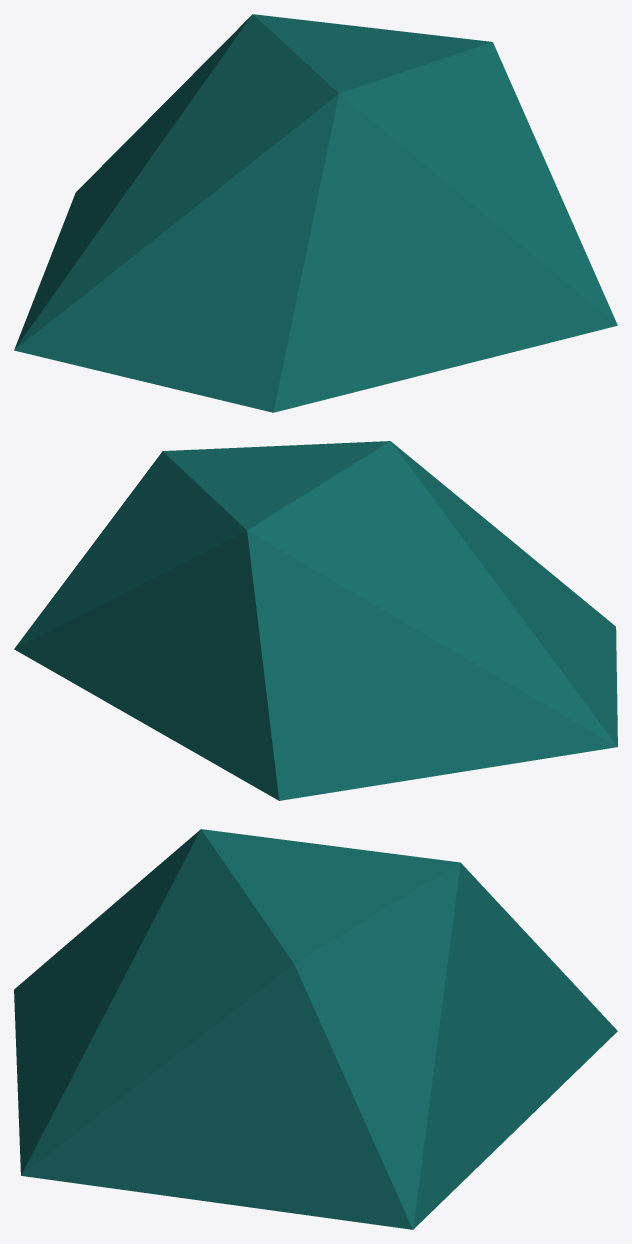
Rendered from Rock A.fbx.
3 views of the same model, one above another, from view 1: azimuth 30°, elevation 25°; view 2: azimuth 150°, elevation 25°; view 3: azimuth 270°, elevation 25° (orthographic). The views are drawn at different scales.
Visible parts, largest first — view 1: Plane001; view 2: Plane001; view 3: Plane001.
Boxes of the visible parts, x1=… form: Plane001: x1=14, y1=14, x2=617, y2=412; Plane001: x1=14, y1=441, x2=617, y2=800; Plane001: x1=14, y1=829, x2=617, y2=1229.
Size of the model in its own units: 10.15 by 3.68 by 8.35.
Materials: 1 (1 with a texture image).
